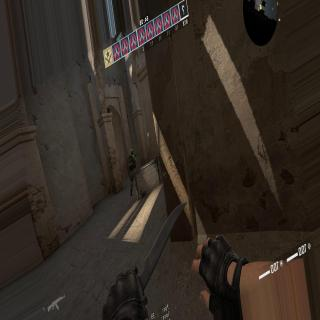CT-Body: (127, 148, 138, 195)
CT-Head: (130, 148, 134, 156)
